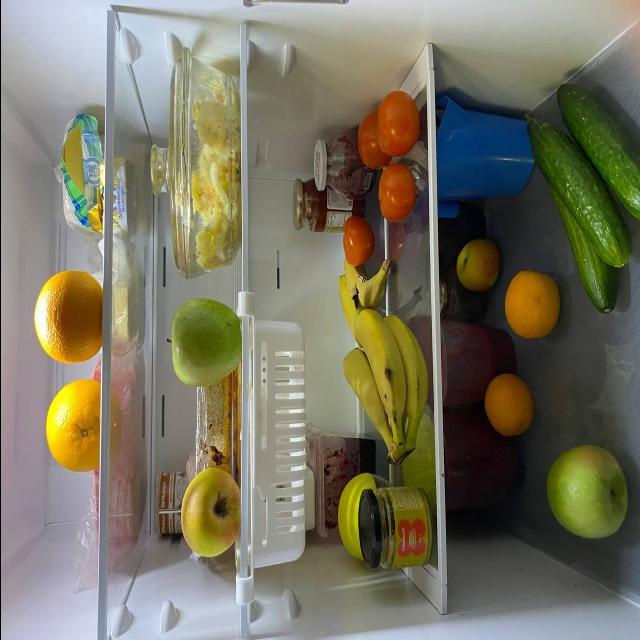Apple: (546, 442, 627, 536), (166, 298, 245, 384), (180, 466, 239, 560), (453, 230, 499, 290)
Banana: (344, 311, 430, 457), (325, 276, 380, 342), (341, 245, 401, 302)
Cucumber: (535, 119, 619, 321), (523, 115, 623, 265), (552, 84, 640, 220)
Orange: (31, 270, 107, 366), (43, 369, 110, 475), (503, 265, 562, 335), (485, 368, 533, 442)
Tomato: (374, 160, 416, 228), (376, 89, 417, 155), (356, 108, 390, 176), (338, 212, 374, 268)
